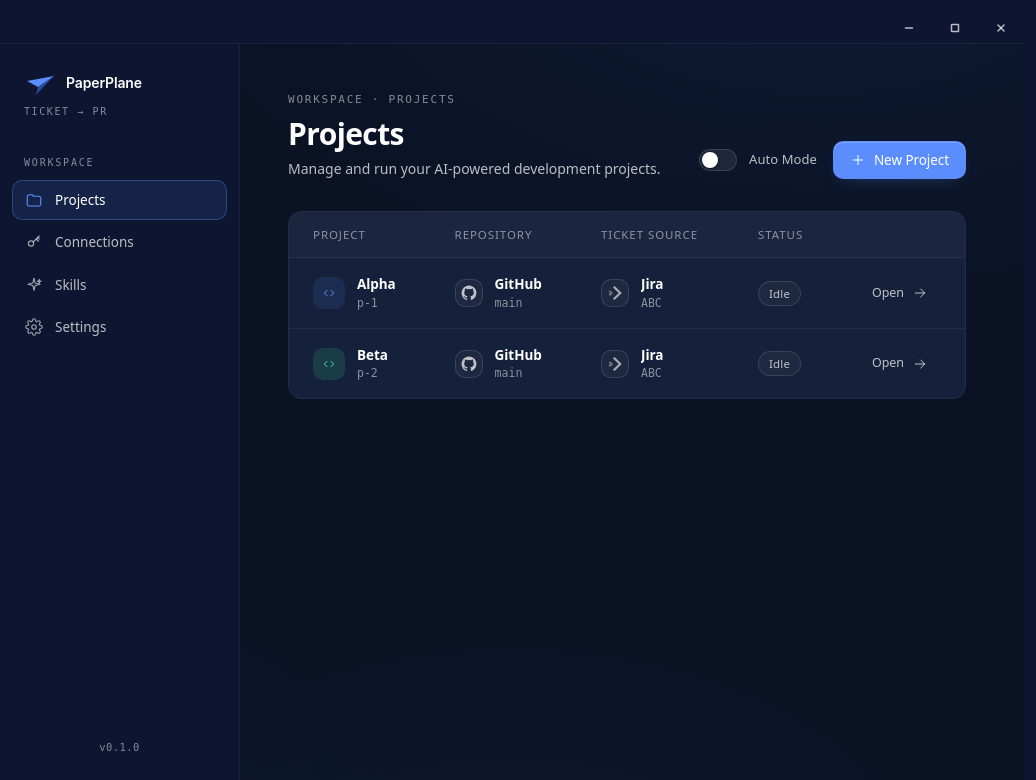
it: <App /> — APP-007/008 navigation through real ProjectDetail › APP-007: clicking row Open switches to detail and shows the project name
Wait for projects to load + render in the list.
Click the button with test id "project-open-p-1": x=900, y=293 [859,278,941,308]
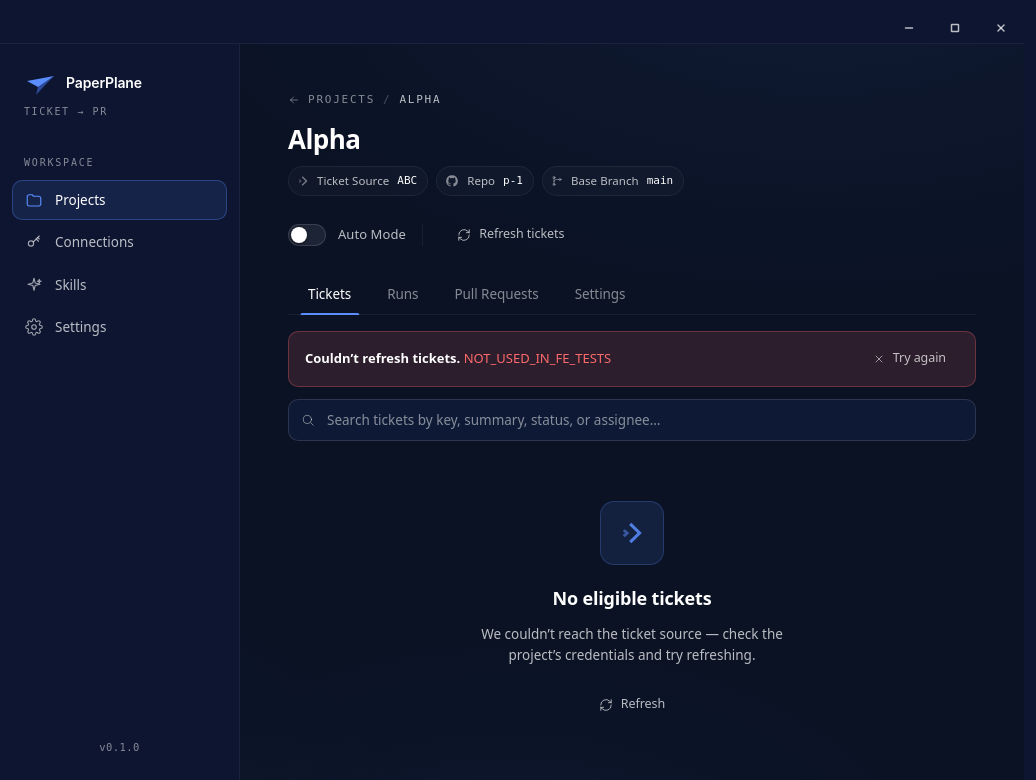
Expected: the button with test id "detail-back" is shown, [288,92,375,108]
Expected: the heading with test id "project-detail-title" reads "Alpha", [288,120,360,156]
